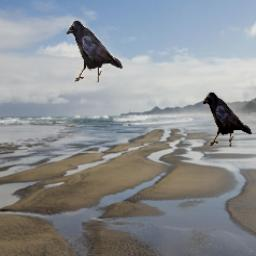Crow: (67, 20, 123, 82), (202, 93, 251, 148)
